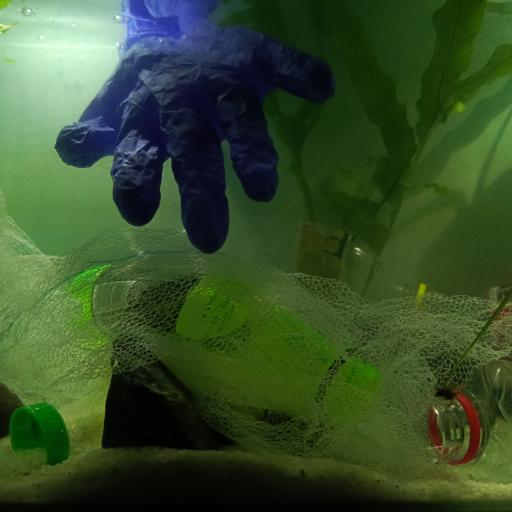bottle_cap: (10, 402, 70, 465)
glove: (53, 0, 337, 256)
net: (18, 225, 512, 460)
plastic_bottle: (65, 260, 382, 430), (227, 218, 437, 317), (418, 352, 512, 475)
